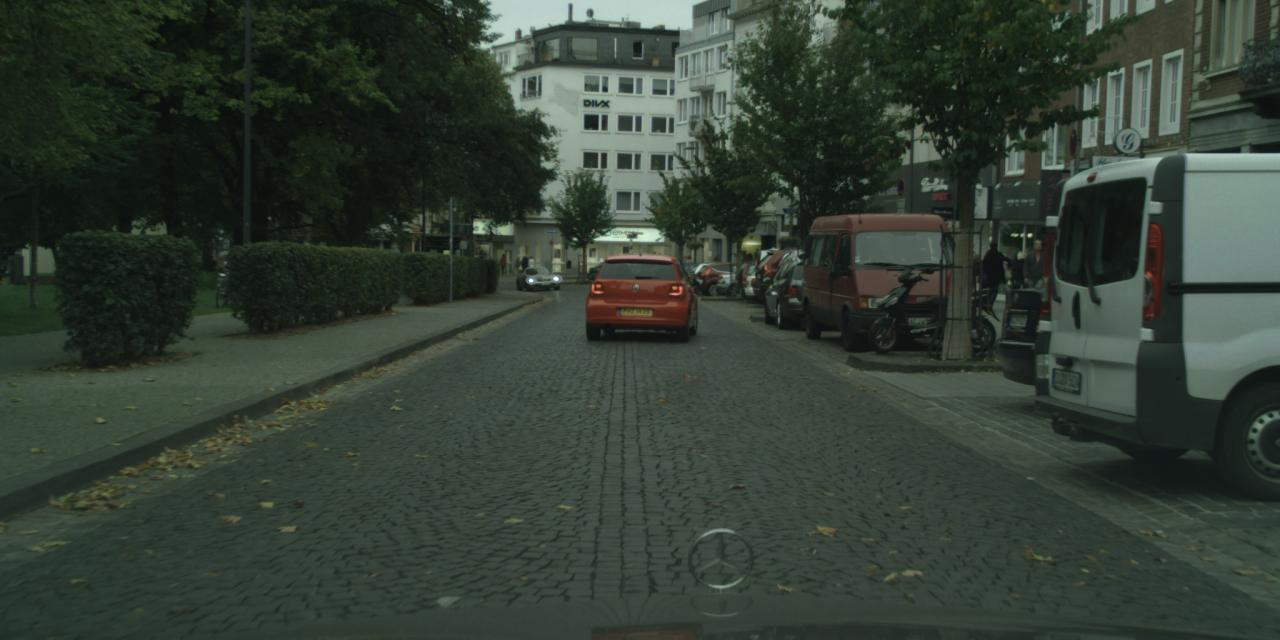ped: (1020, 238, 1054, 321), (978, 242, 1004, 307), (1007, 251, 1032, 316), (684, 254, 693, 278), (512, 254, 522, 275), (498, 253, 507, 276), (527, 255, 535, 276), (520, 254, 528, 274)
